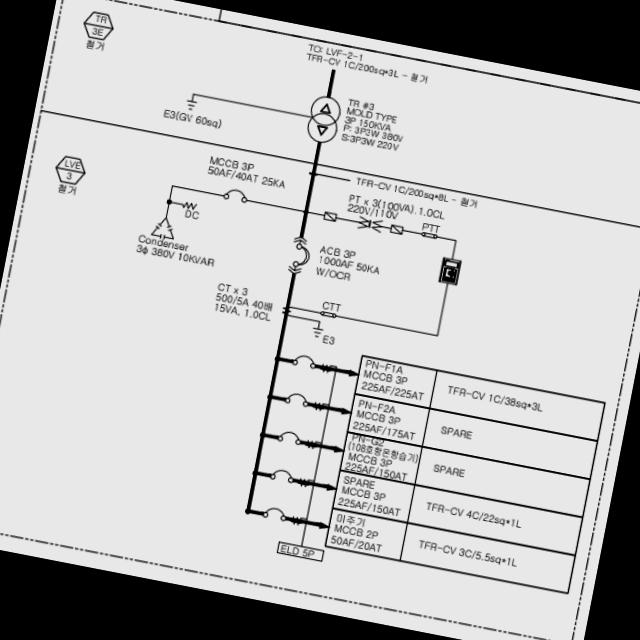ACB: (293, 242, 313, 268)
CT: (282, 303, 293, 316)
GND: (182, 98, 198, 113), (310, 326, 324, 339)
MCCB: (264, 504, 288, 522), (223, 186, 248, 202), (270, 467, 296, 482), (293, 353, 317, 369), (286, 390, 310, 406), (278, 428, 302, 444)
PT: (358, 215, 383, 231)
SC: (150, 214, 178, 241)
